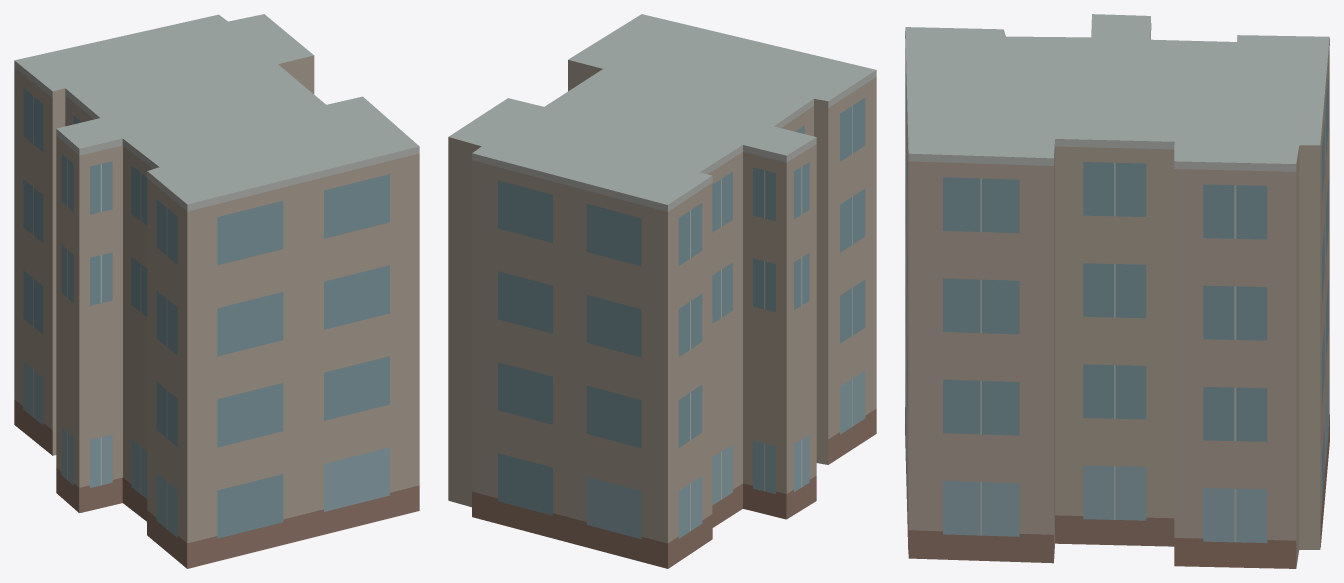
Rendered from survey-upis-32794219.glb.
3 views of the same model, side by side, from view 1: azimuth 30°, elevation 25°; view 2: azimuth 150°, elevation 25°; view 3: azimuth 270°, elevation 25° (orthographic). The views are drawn at different scales.
Parts seen in each view (by area): view 1: survey-upis-32794219.tmp; view 2: survey-upis-32794219.tmp; view 3: survey-upis-32794219.tmp.
Boxes of the visible parts, x1,y1,x2,y2 form: survey-upis-32794219.tmp: (14, 14, 419, 568); survey-upis-32794219.tmp: (448, 14, 876, 568); survey-upis-32794219.tmp: (905, 14, 1329, 568).
Bounding box in the file's own units: 10.27 × 12.9 × 12.27.
